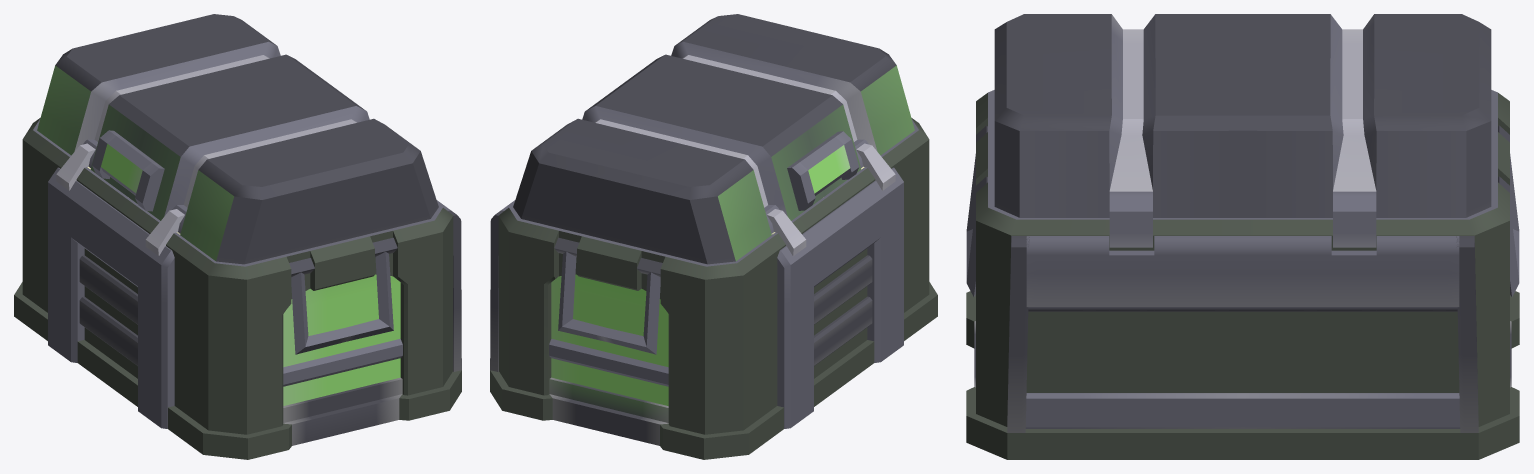
The model's file is AmmoBox2.fbx.
3 renders of one model, left to right at view 1: azimuth 30°, elevation 25°; view 2: azimuth 150°, elevation 25°; view 3: azimuth 270°, elevation 25°, orthographic. The views are drawn at different scales.
Parts seen in each view (by area): view 1: Box, Lid, Handle2; view 2: Box, Lid, Handle1; view 3: Box, Lid, Handle1, Handle2.
Part boxes in pixels (x1=…): Box: x1=14, y1=118, x2=461, y2=459; Lid: x1=37, y1=14, x2=438, y2=264; Handle2: x1=291, y1=252, x2=393, y2=354; Box: x1=490, y1=118, x2=937, y2=459; Lid: x1=513, y1=14, x2=914, y2=264; Handle1: x1=558, y1=252, x2=660, y2=354; Box: x1=966, y1=90, x2=1519, y2=459; Lid: x1=994, y1=14, x2=1491, y2=247; Handle1: x1=1510, y1=154, x2=1519, y2=296; Handle2: x1=966, y1=154, x2=975, y2=296.
Size of the model in its own units: 0.0193 by 0.0178 by 0.0282.
1 material, 1 textured.
